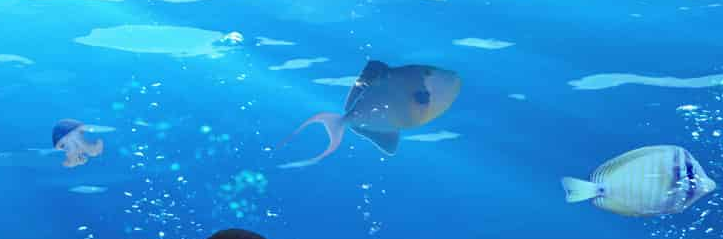fishRound: (293, 58, 461, 160), (561, 143, 714, 221)
